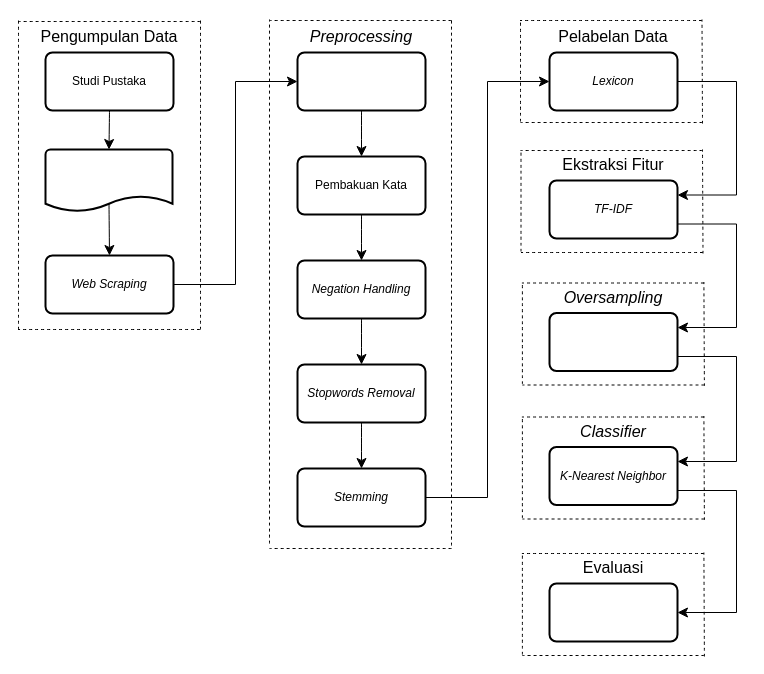
The diagram is 764 pixels wide and 674 high, and some of its shapes have lost their labels. The shapes that lost their labels are listed below. From the top down, each one's centre as x and y in pixels, then its label:
the point at 361,81: Text Cleaning
the point at 108,180: X (Twitter)
the point at 613,342: SMOTE
the point at 613,612: Confusion Matrix
